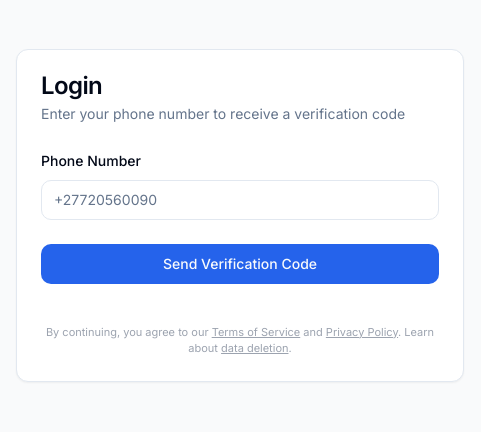
Scenario: LoginPage OTP flow › moves to OTP step on successful send and does not show test hints
Type "+27721234567" into the field labelled "Phone Number".
click(240, 200); type("+27721234567")  # box [41, 180, 439, 220]
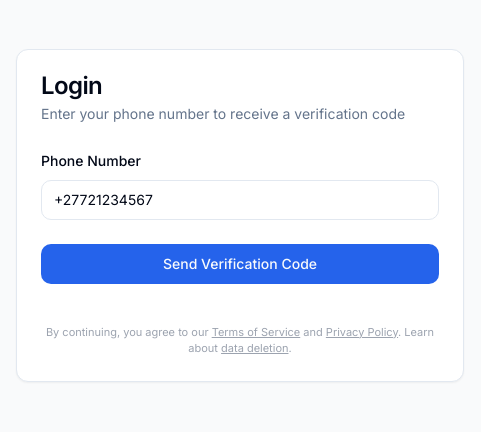
Click the button "Send Verification Code".
click(240, 264)  # box [41, 244, 439, 284]
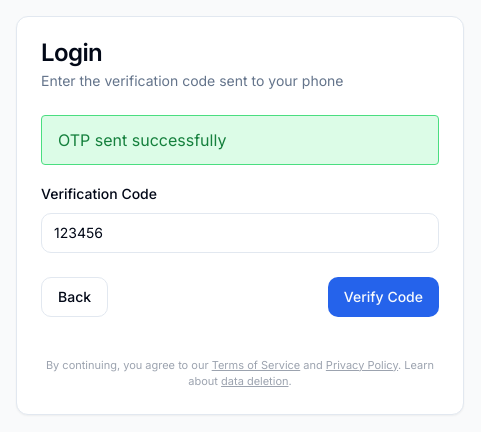
expect the text "Enter the verification code sent to your phone" is shown: met, box [41, 72, 344, 88]
expect the field labelled "Verification Code" holds "123456": met, box [41, 212, 439, 252]
